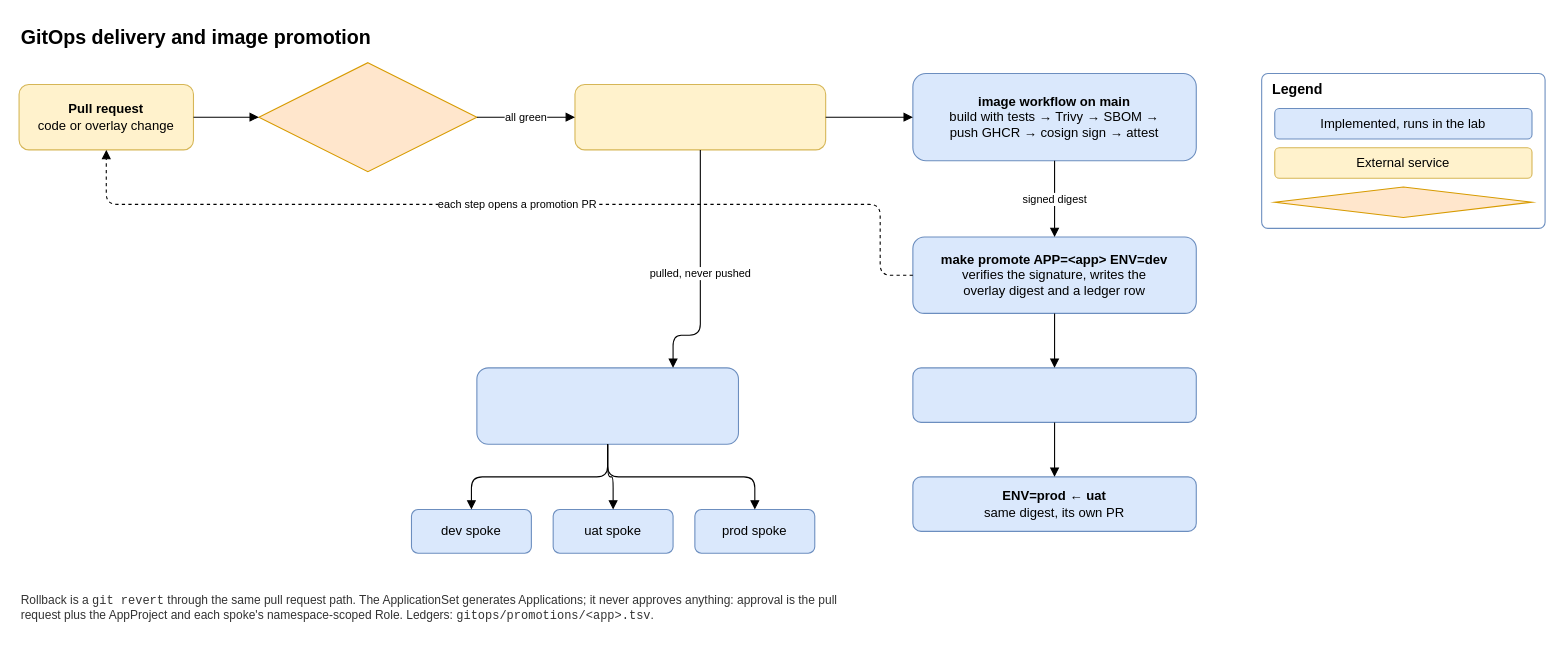
The diagram is 1564 pixels wide and 658 high, and some of its shapes have lost their labels. Each missing label, with the centre of its shape:
"Argo CD on the hub ApplicationSet per component, clusters generator" belongs at (x=607, y=405).
"ENV=uat ← dev same digest, its own PR" belongs at (x=1054, y=394).
"main ruleset: PR required, strict checks, no force push, no bypass" belongs at (x=700, y=116).
"Required checks validate, emulator, build/scan/SBOM, verify promoted images" belongs at (x=367, y=117).
"Required gate" belongs at (x=1403, y=201).
